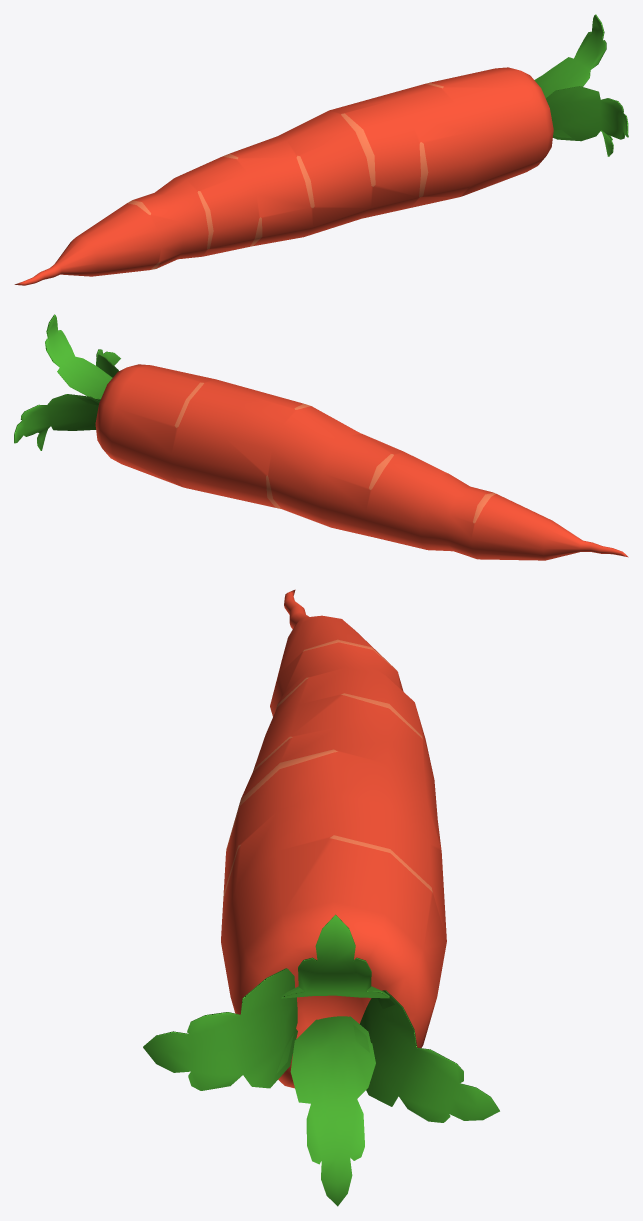
File: Carrot.fbx
3 views of the same model, one above another, from view 1: azimuth 30°, elevation 25°; view 2: azimuth 150°, elevation 25°; view 3: azimuth 270°, elevation 25° (orthographic). The views are drawn at different scales.
Visible parts, largest first — view 1: Carrot; view 2: Carrot; view 3: Carrot.
Boxes of the visible parts, box(x1,y1,x2,y2) form: Carrot: box(14, 14, 628, 285); Carrot: box(14, 314, 628, 560); Carrot: box(143, 589, 499, 1206).
Size of the model in its own units: 1.88 by 0.4322 by 0.5027.
1 material, 1 textured.
